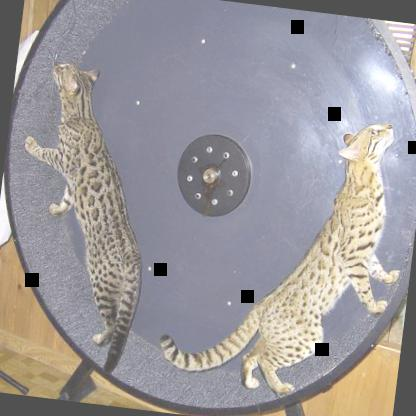cat: (156, 98, 415, 407), (0, 59, 168, 379)
